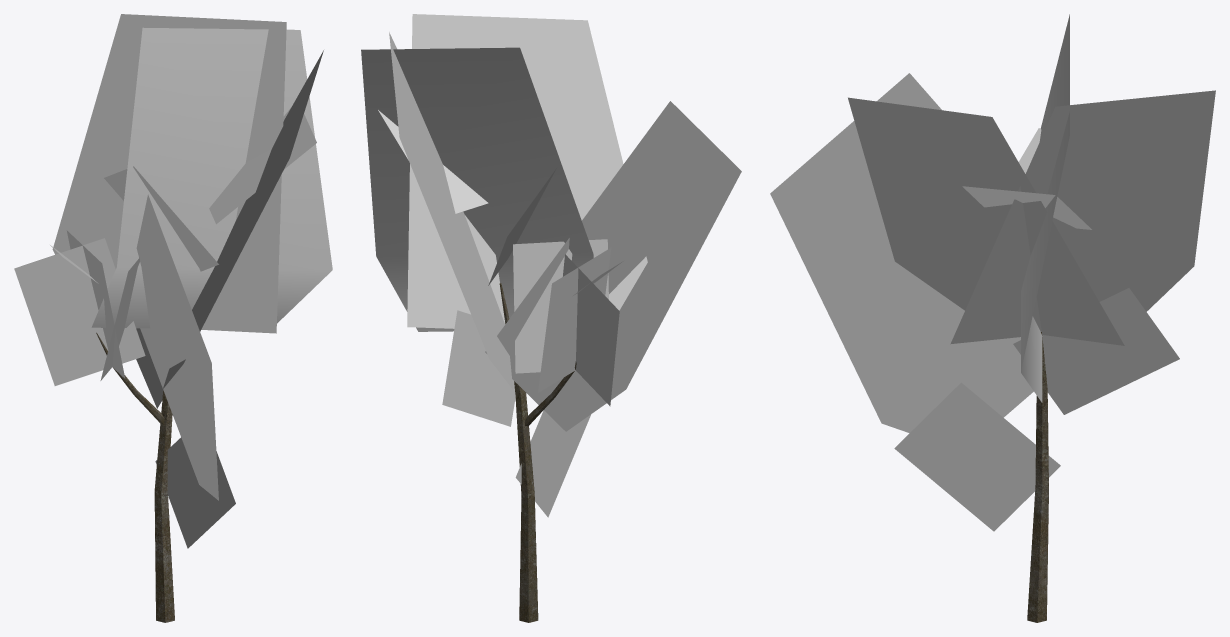
The model's file is SM_tree_a_baby.fbx.
3 renders of one model, left to right at view 1: azimuth 30°, elevation 25°; view 2: azimuth 150°, elevation 25°; view 3: azimuth 270°, elevation 25°, orthographic. The views are drawn at different scales.
Visible parts, largest first — view 1: SM_tree_a_baby_LOD0; view 2: SM_tree_a_baby_LOD0; view 3: SM_tree_a_baby_LOD0.
Part boxes in pixels (x1=…): SM_tree_a_baby_LOD0: x1=14, y1=14, x2=332, y2=622; SM_tree_a_baby_LOD0: x1=361, y1=14, x2=741, y2=622; SM_tree_a_baby_LOD0: x1=770, y1=14, x2=1215, y2=622.
Size of what is drawn, in the model's own units: 265 by 525 by 353.
